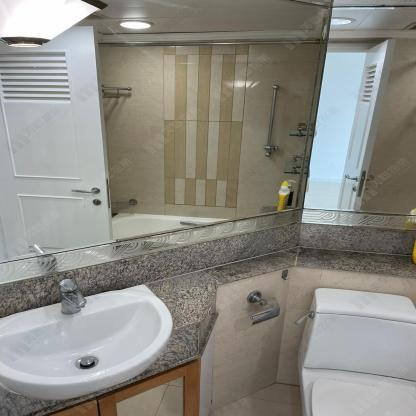Faucet: (57, 276, 88, 320)
Toilet: (294, 286, 416, 416)
Toilet Sink: (0, 282, 207, 407)
